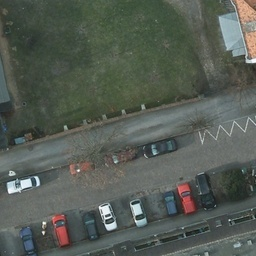car: (195, 172, 219, 212), (51, 214, 70, 248), (7, 172, 38, 192), (176, 184, 197, 213), (129, 198, 147, 228), (146, 137, 177, 154), (98, 202, 116, 231), (82, 209, 99, 239), (162, 186, 178, 215), (109, 147, 135, 163), (69, 159, 93, 176)
